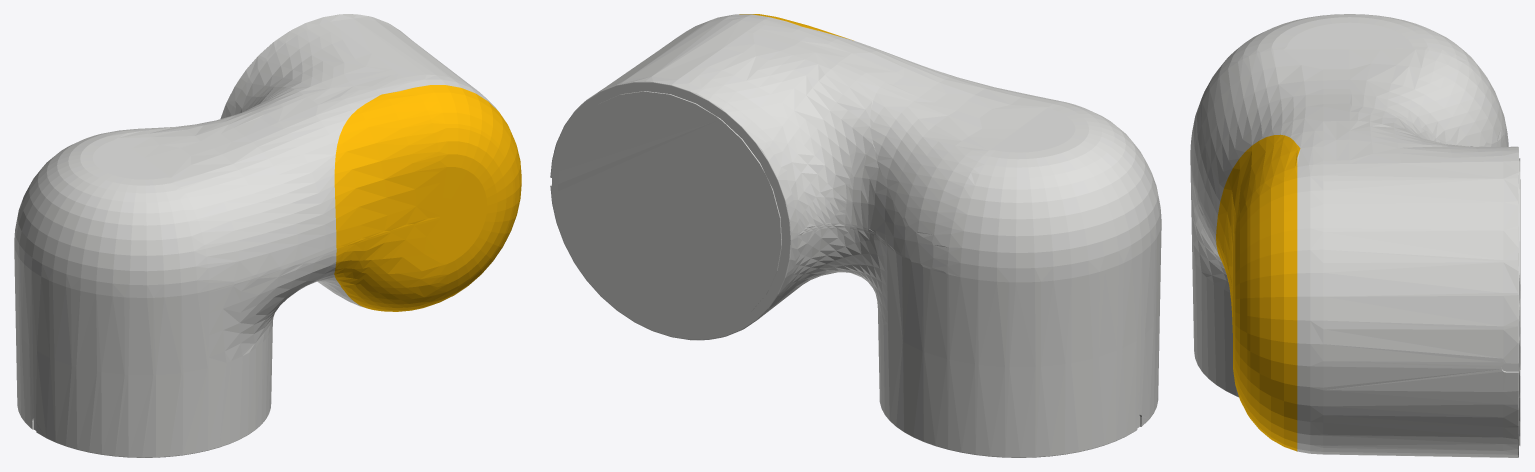
3 views of the same model, side by side, from view 1: azimuth 30°, elevation 25°; view 2: azimuth 150°, elevation 25°; view 3: azimuth 270°, elevation 25° (orthographic). The views are drawn at different scales.
Visible parts, largest first — view 1: Link; view 2: Link; view 3: Link.
Part boxes in pixels (bbox=[...]): Link: bbox=[14, 14, 521, 457]; Link: bbox=[550, 14, 1161, 457]; Link: bbox=[1190, 14, 1520, 457].
Size of the model in its own units: 0.1327 by 0.0748 by 0.0658.
